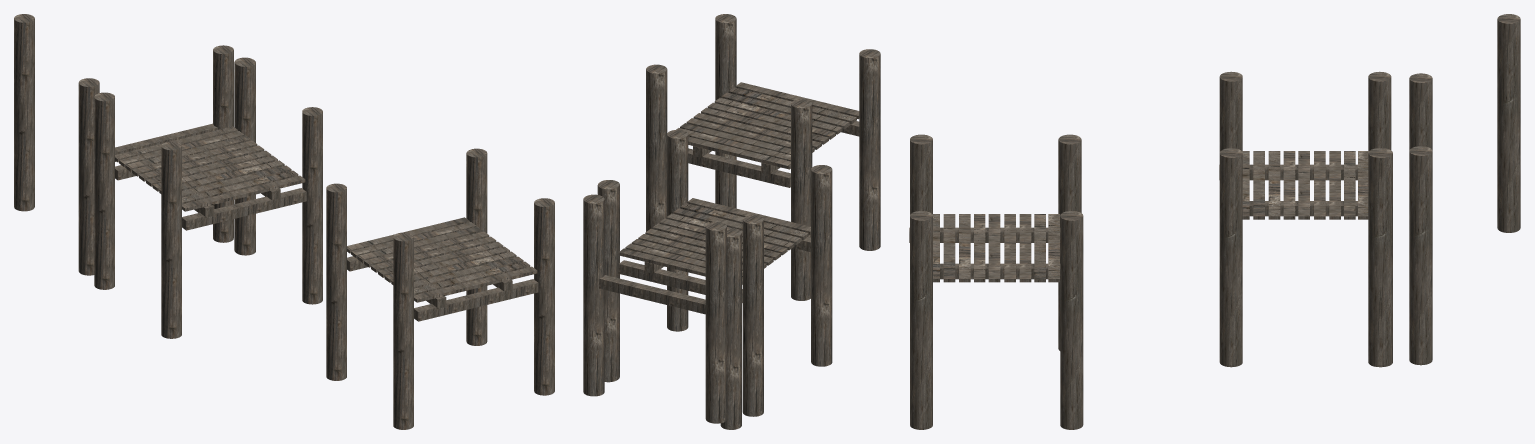
File: palito.fbx
3 renders of one model, left to right at view 1: azimuth 30°, elevation 25°; view 2: azimuth 150°, elevation 25°; view 3: azimuth 270°, elevation 25°, orthographic. The views are drawn at different scales.
Visible parts, largest first — view 1: marco.002, marco, piso bien, Cylinder.004, Cylinder.003, Cylinder.001, Cylinder.002, marco.001, Cube; view 2: marco.002, marco, piso bien, Cylinder.004, Cylinder.002, Cylinder.003, marco.001, Cube, Cube.006, Cylinder.001; view 3: marco.002, marco, piso bien, Cylinder.002, Cylinder.004, Cylinder.001, Cylinder.003.
Part boxes in pixels (x1,y1,x2,y2): marco.002: [326, 148, 554, 429]; marco: [94, 57, 322, 338]; piso bien: [117, 126, 305, 217]; Cylinder.004: [14, 14, 34, 211]; Cylinder.003: [78, 78, 99, 275]; Cylinder.001: [235, 58, 255, 255]; Cylinder.002: [213, 45, 233, 242]; marco.001: [115, 123, 217, 161]; Cube: [115, 126, 237, 162]; marco.002: [646, 14, 880, 300]; marco: [597, 129, 832, 416]; piso bien: [619, 198, 810, 279]; Cylinder.004: [705, 222, 726, 423]; Cylinder.002: [583, 194, 604, 396]; Cylinder.003: [720, 228, 741, 429]; marco.001: [599, 275, 705, 314]; Cube: [618, 251, 742, 284]; Cube.006: [631, 239, 742, 270]; Cylinder.001: [598, 180, 619, 379]; marco.002: [909, 134, 1083, 429]; marco: [1219, 71, 1392, 367]; piso bien: [1219, 151, 1368, 219]; Cylinder.002: [1409, 146, 1432, 365]; Cylinder.004: [1497, 14, 1520, 232]; Cylinder.001: [1368, 148, 1391, 367]; Cylinder.003: [1409, 73, 1432, 150].
Bounding box in the file's own units: 910 × 768 × 1587.
3 materials, 3 textured.
